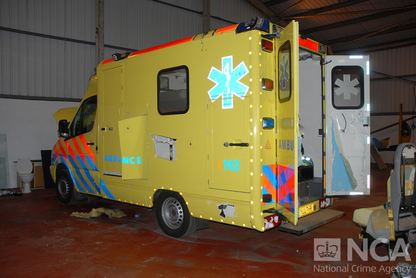ambulance: (50, 16, 372, 241)
